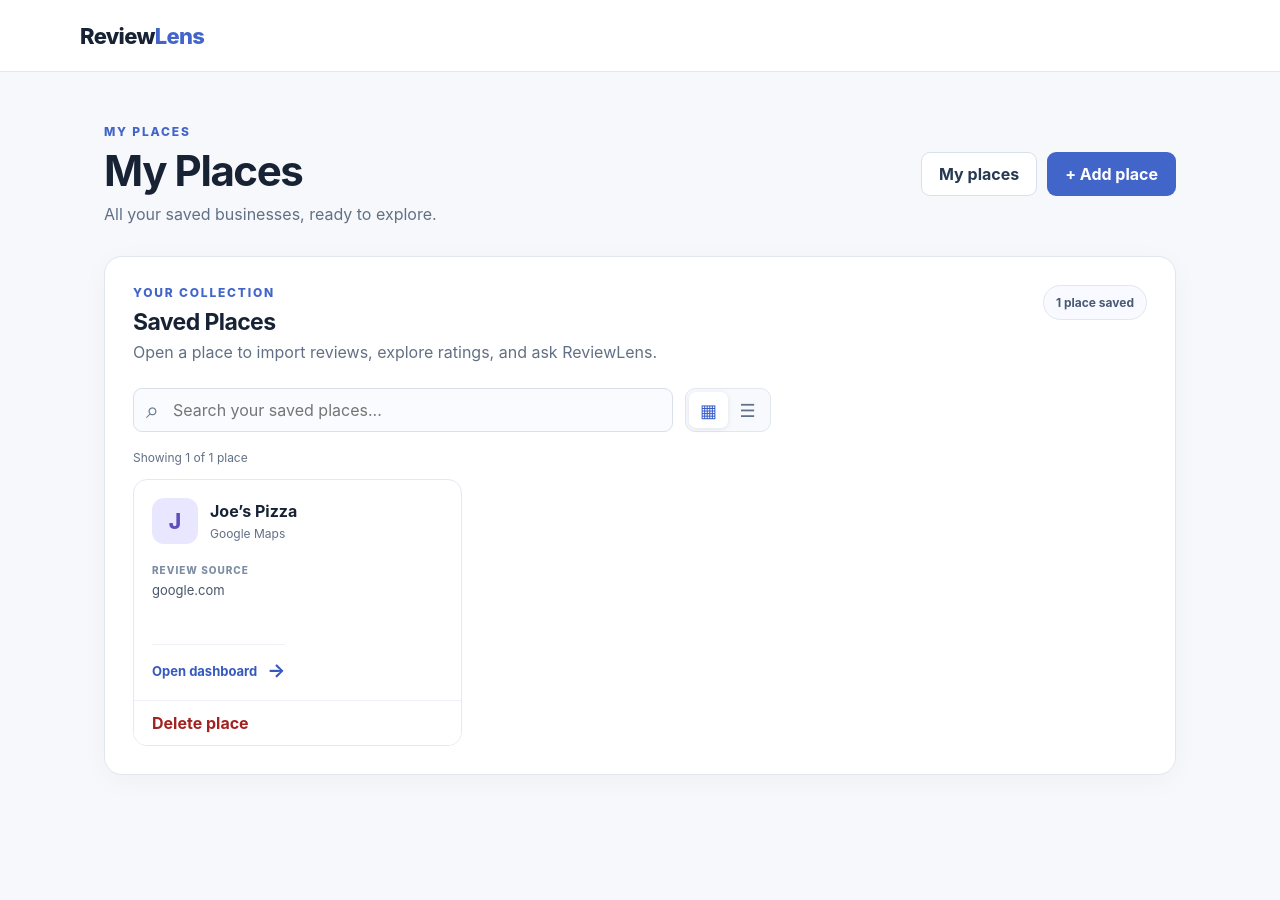
Test case: App › removes a saved place from the collection after successful deletion
Click the button with aria-label "Delete Joe’s Pizza" at coordinates (200, 723), box x1=134 y1=700 x2=461 y2=745
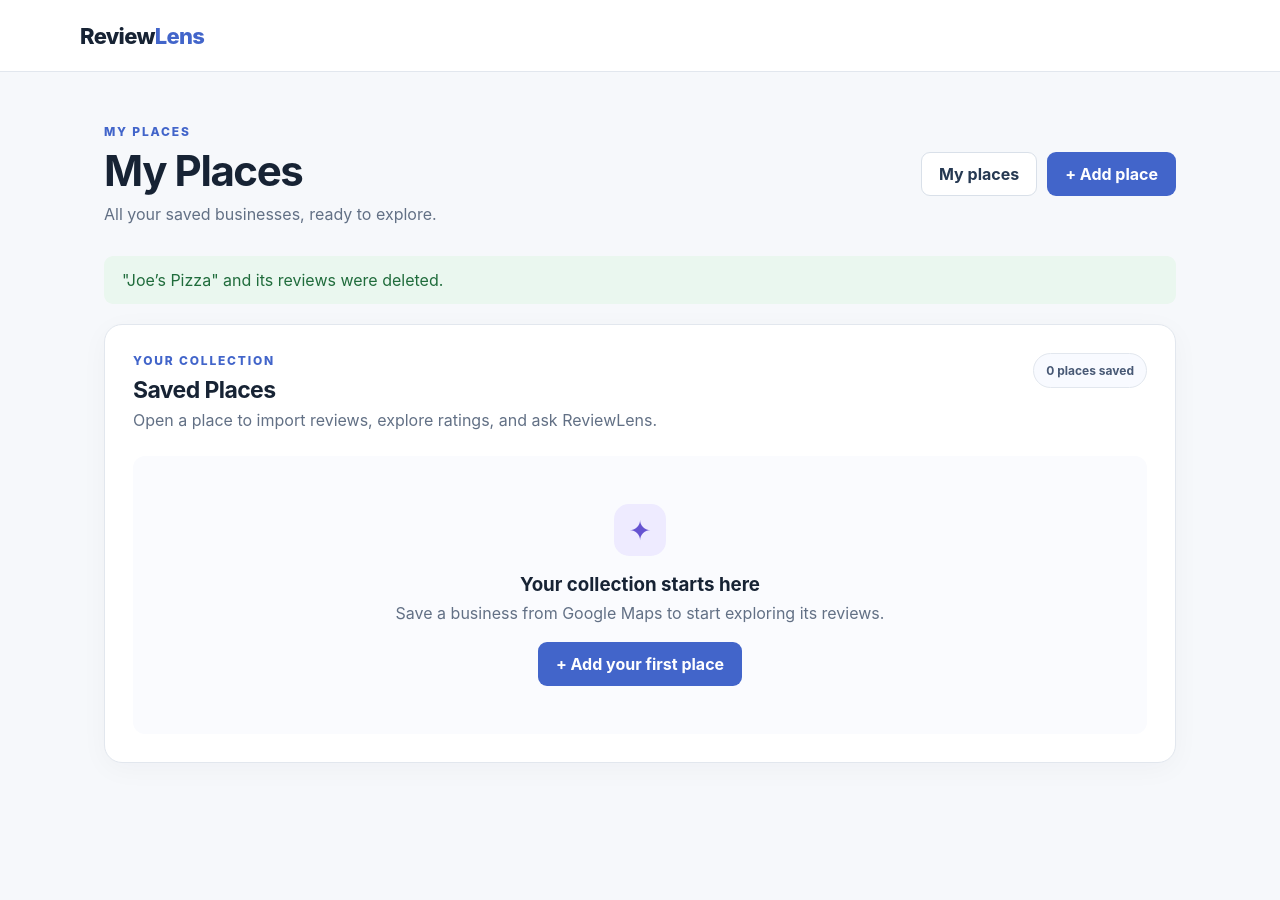
expect the heading "Your collection starts here" is shown: met, box x1=520 y1=573 x2=760 y2=596
expect the text "\"Joe’s Pizza\" and its reviews were deleted." is shown: met, box x1=104 y1=256 x2=1176 y2=304
